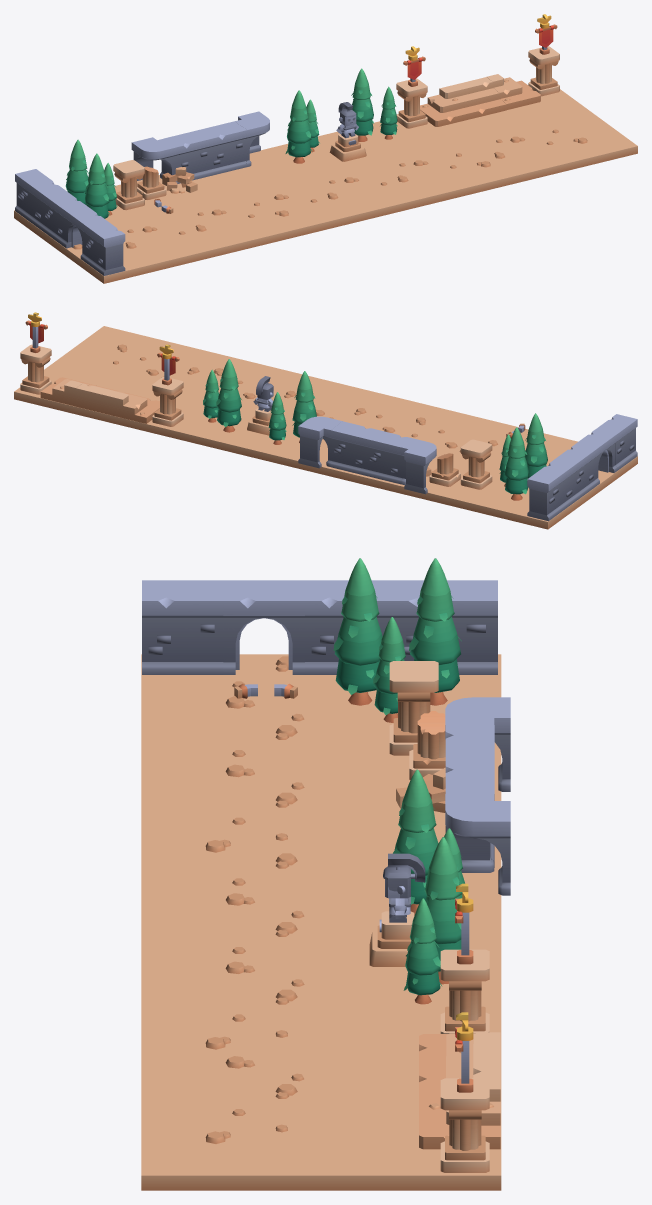
File: typer-pro-environment.glb
3 renders of one model, top to bottom at view 1: azimuth 30°, elevation 25°; view 2: azimuth 150°, elevation 25°; view 3: azimuth 270°, elevation 25°, orthographic. The views are drawn at different scales.
Visible parts, largest first — view 1: environment; view 2: environment; view 3: environment.
Boxes of the visible parts, x1,y1,x2,y2 form: environment: (14, 14, 637, 283); environment: (14, 312, 637, 529); environment: (141, 558, 510, 1190).
Bounding box in the file's own units: 15.11 × 2.23 × 4.52.
Materials: 1 (1 with a texture image).
